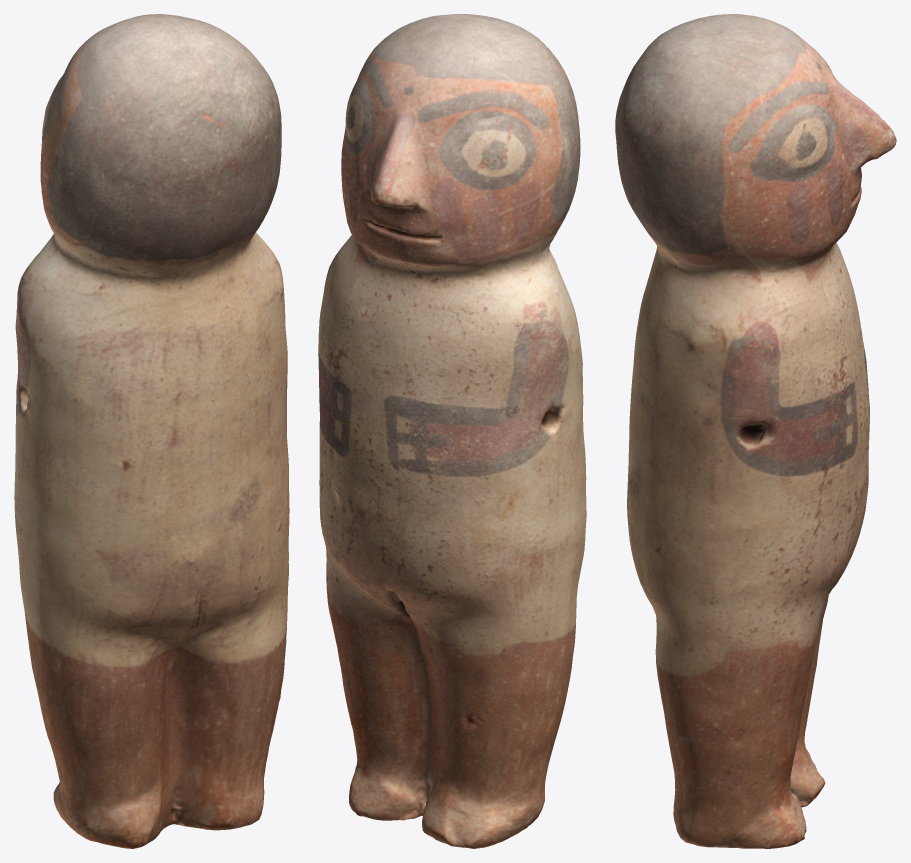
File: figurina-cerrodeoro-2.glb
3 renders of one model, left to right at view 1: azimuth 30°, elevation 25°; view 2: azimuth 150°, elevation 25°; view 3: azimuth 270°, elevation 25°, orthographic.
Parts seen in each view (by area): view 1: figurina-cerrodeoro.001; view 2: figurina-cerrodeoro.001; view 3: figurina-cerrodeoro.001.
Part boxes in pixels (left/top/right/bottom): figurina-cerrodeoro.001: left=14, top=14, right=289, bottom=848; figurina-cerrodeoro.001: left=318, top=14, right=586, bottom=848; figurina-cerrodeoro.001: left=615, top=14, right=896, bottom=848.
Size of the model in its own units: 0.7349 by 2.28 by 0.7462.
Materials: 1 (1 with a texture image).
